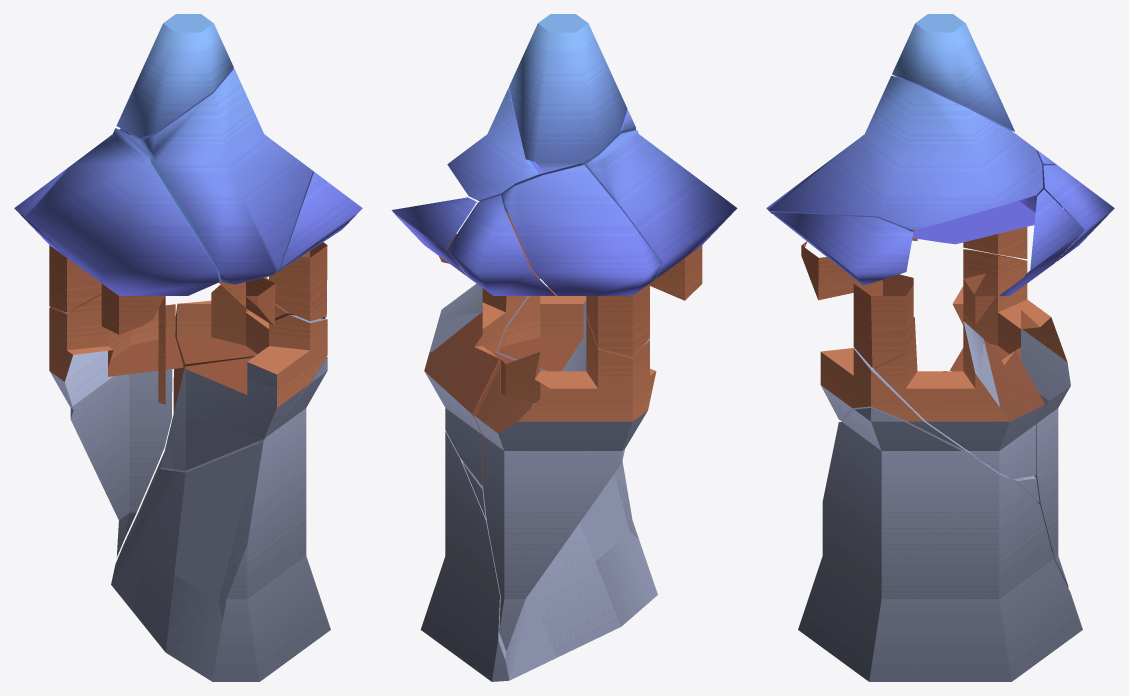
Rendered from unit-tower-pieces.glb.
3 renders of one model, left to right at view 1: azimuth 30°, elevation 25°; view 2: azimuth 150°, elevation 25°; view 3: azimuth 270°, elevation 25°, orthographic.
Parts seen in each view (by area): view 1: unit-tower_cell.003, unit-tower_cell.008, unit-tower_cell.010, unit-tower_cell.012, unit-tower_cell.005, unit-tower_cell.011, unit-tower_cell.007, unit-tower_cell.006, unit-tower_cell.014, unit-tower_cell.001, unit-tower_cell.016, unit-tower_cell.004; view 2: unit-tower_cell.012, unit-tower_cell.003, unit-tower_cell.001, unit-tower_cell.011, unit-tower_cell.008, unit-tower_cell.007, unit-tower_cell.005, unit-tower_cell.002, unit-tower_cell.010, unit-tower_cell.013; view 3: unit-tower_cell.003, unit-tower_cell.010, unit-tower_cell.007, unit-tower_cell.012, unit-tower_cell.011, unit-tower_cell.006, unit-tower_cell.005, unit-tower_cell.014, unit-tower_cell.001, unit-tower_cell.013, unit-tower_cell.002, unit-tower_cell.016 (+1 smaller).
Boxes of the visible parts, x1,y1,x2,y2 form: unit-tower_cell.003: (111, 357, 330, 681); unit-tower_cell.008: (26, 128, 219, 334); unit-tower_cell.010: (129, 68, 312, 284); unit-tower_cell.012: (49, 293, 183, 557); unit-tower_cell.005: (160, 315, 327, 470); unit-tower_cell.011: (116, 14, 233, 137); unit-tower_cell.007: (173, 277, 325, 412); unit-tower_cell.006: (277, 171, 362, 271); unit-tower_cell.014: (269, 242, 327, 321); unit-tower_cell.001: (14, 128, 120, 312); unit-tower_cell.016: (219, 278, 275, 326); unit-tower_cell.004: (158, 296, 165, 404); unit-tower_cell.012: (474, 315, 656, 651); unit-tower_cell.003: (420, 431, 657, 681); unit-tower_cell.001: (502, 165, 661, 356); unit-tower_cell.011: (509, 14, 627, 172); unit-tower_cell.008: (583, 130, 737, 300); unit-tower_cell.007: (424, 258, 540, 485); unit-tower_cell.005: (463, 286, 586, 518); unit-tower_cell.002: (446, 195, 555, 295); unit-tower_cell.010: (447, 88, 635, 211); unit-tower_cell.013: (391, 197, 476, 277); unit-tower_cell.003: (798, 408, 1082, 681); unit-tower_cell.010: (766, 75, 1043, 230); unit-tower_cell.007: (873, 317, 1045, 478); unit-tower_cell.012: (950, 249, 1070, 587); unit-tower_cell.011: (892, 14, 1014, 131); unit-tower_cell.006: (771, 212, 913, 285); unit-tower_cell.005: (820, 347, 1039, 502); unit-tower_cell.014: (853, 274, 913, 367); unit-tower_cell.001: (912, 132, 1062, 259); unit-tower_cell.013: (999, 189, 1084, 295); unit-tower_cell.002: (1043, 165, 1114, 261); unit-tower_cell.016: (801, 241, 857, 300).
Size of the model in its own units: 2.22 by 4.92 by 2.56.
1 material, 1 textured.
